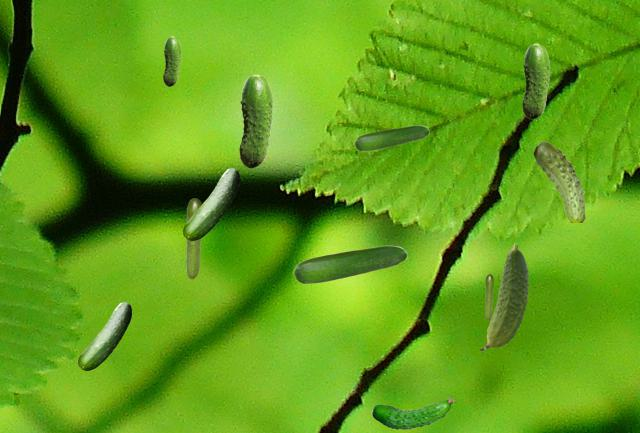cucumber: (480, 243, 528, 349), (293, 245, 406, 283), (533, 141, 585, 221), (183, 168, 238, 239), (78, 302, 130, 369), (239, 74, 272, 167), (371, 394, 452, 429), (522, 43, 549, 118), (354, 125, 428, 150), (186, 198, 201, 278), (163, 36, 180, 85), (485, 274, 492, 319)
